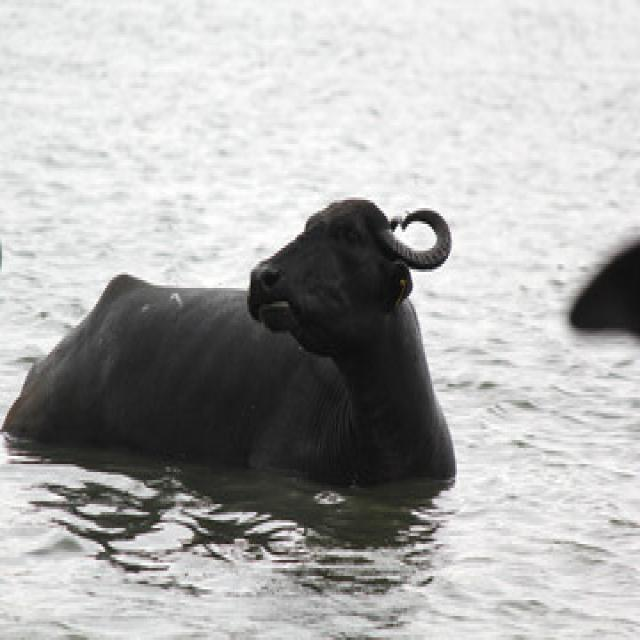Buffalo: (0, 192, 459, 493)
